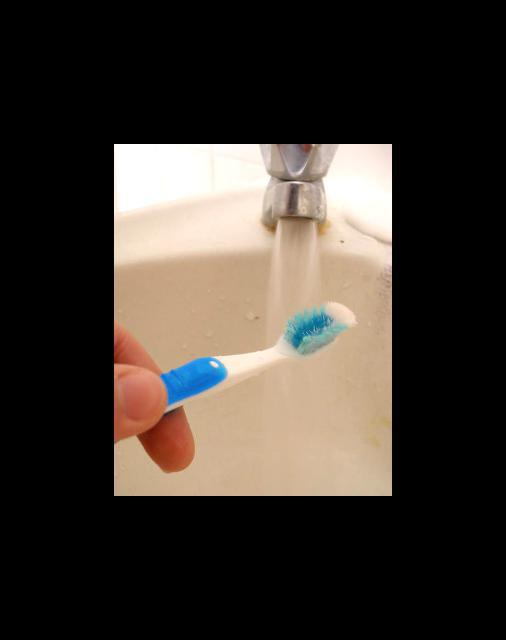Lavamanos: (114, 144, 392, 496)
